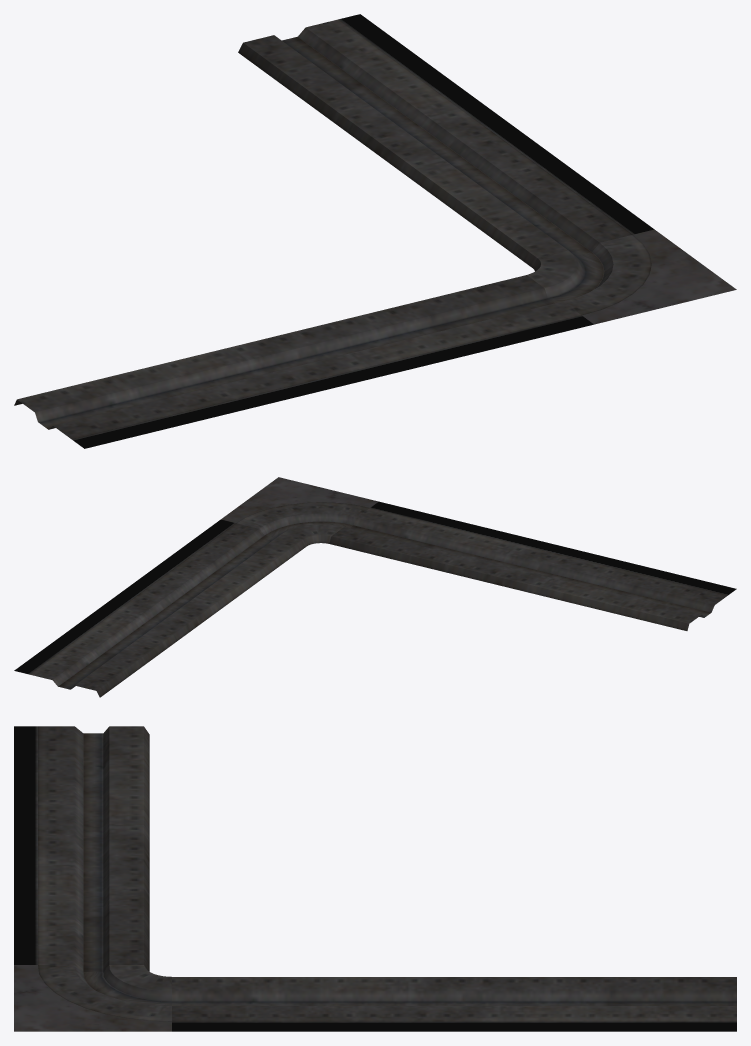
File: lab_floor_welder_concave_noyellow.dae
3 renders of one model, top to bottom at view 1: azimuth 30°, elevation 25°; view 2: azimuth 150°, elevation 25°; view 3: azimuth 270°, elevation 25°, orthographic. The views are drawn at different scales.
Visible parts, largest first — view 1: floor_welder_concave_noyellow; view 2: floor_welder_concave_noyellow; view 3: floor_welder_concave_noyellow.
Boxes of the visible parts, bbox=[...] form: floor_welder_concave_noyellow: bbox=[14, 14, 736, 448]; floor_welder_concave_noyellow: bbox=[14, 477, 736, 697]; floor_welder_concave_noyellow: bbox=[14, 726, 736, 1031].
Bounding box in the file's own units: 2 × 0.0254 × 2.
